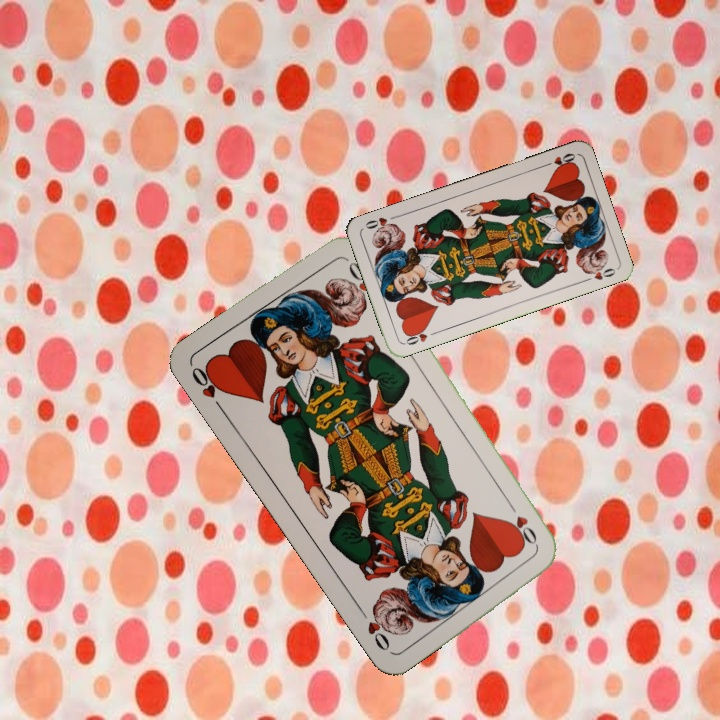HO: (187, 361, 228, 414), (503, 496, 541, 549), (401, 324, 440, 348), (538, 149, 578, 171)
